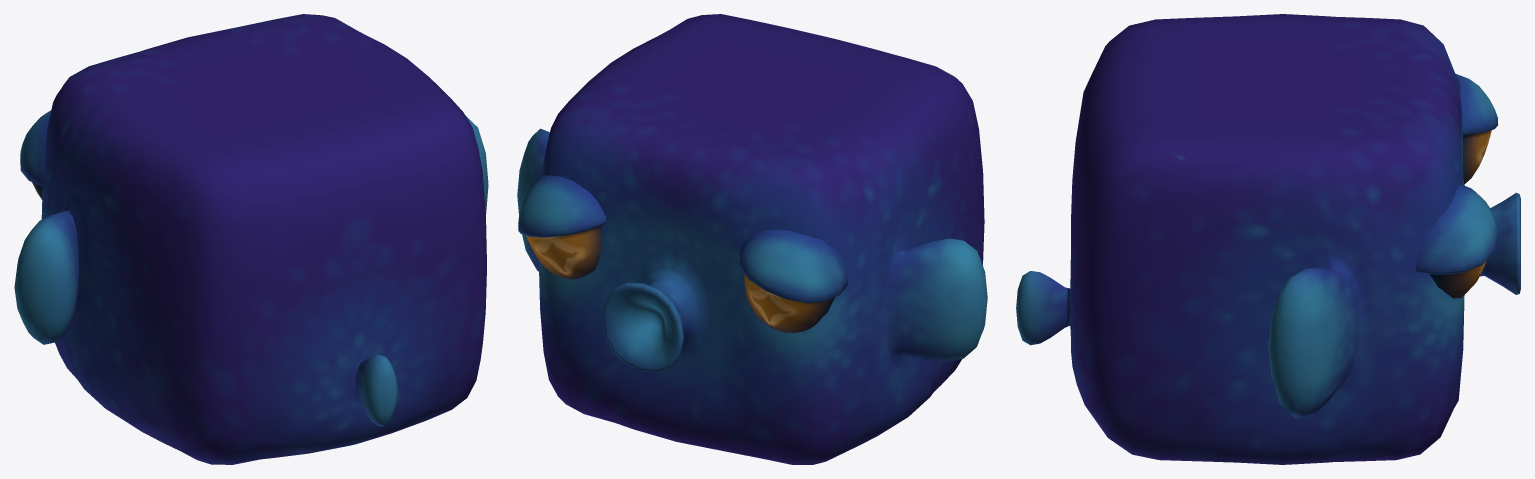
The model's file is BoxFish.fbx.
The picture shows the model from 3 angles, left to right: view 1: azimuth 30°, elevation 25°; view 2: azimuth 150°, elevation 25°; view 3: azimuth 270°, elevation 25°; orthographic projection. The views are drawn at different scales.
Parts seen in each view (by area): view 1: MDL_Base, MDL_Eye_L; view 2: MDL_Base, MDL_Eye_L, MDL_Eye_R; view 3: MDL_Base, MDL_Eye_R, MDL_Eye_L.
Boxes of the visible parts, box(x1,y1,x2,y2) form: MDL_Base: box(14, 14, 488, 464); MDL_Eye_L: box(20, 110, 51, 199); MDL_Base: box(517, 14, 987, 464); MDL_Eye_L: box(739, 229, 847, 332); MDL_Eye_R: box(518, 175, 606, 279); MDL_Base: box(1016, 14, 1520, 464); MDL_Eye_R: box(1415, 184, 1498, 298); MDL_Eye_L: box(1455, 73, 1497, 184).
Bounding box in the file's own units: 8.96 × 5.62 × 8.03.
